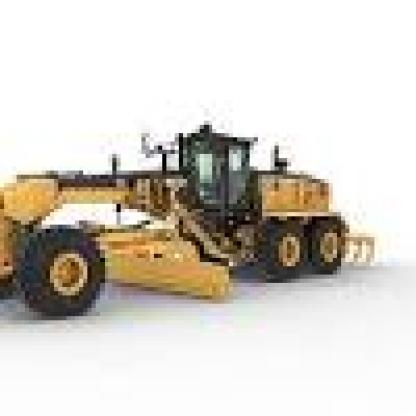bull_dozer/loader/grader: (0, 112, 399, 311)
